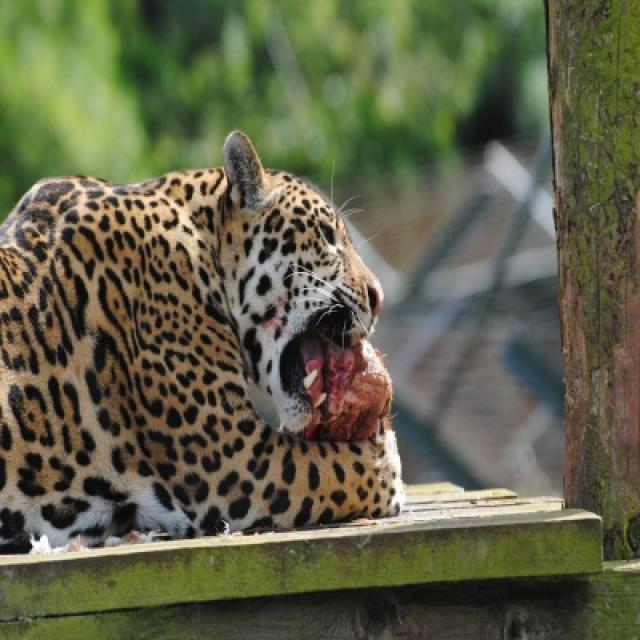Jaguar: (0, 131, 398, 563)
